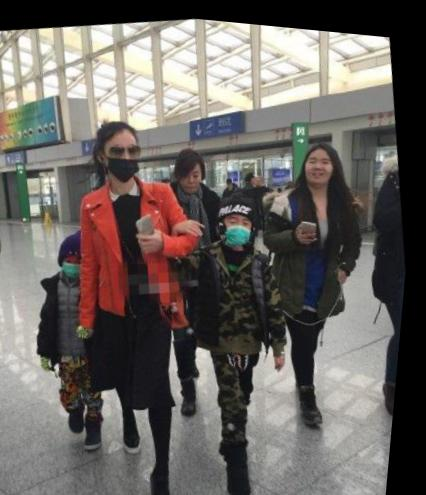NONE: (307, 147, 338, 179), (182, 163, 211, 192)
OK: (224, 203, 260, 244), (66, 251, 90, 279)
WRONG: (105, 136, 150, 183)
